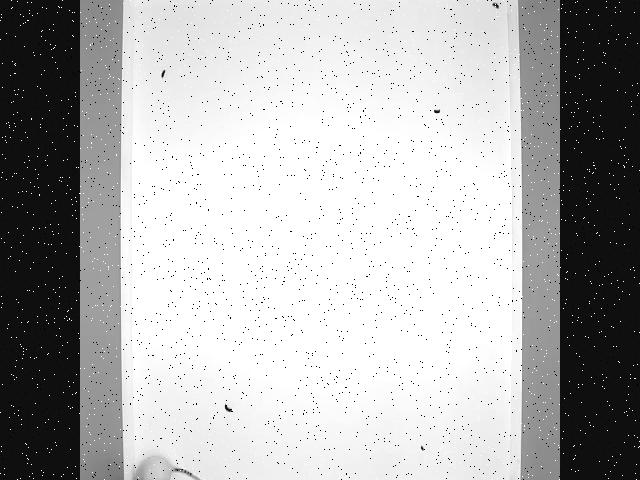Tikus: (127, 452, 230, 480)
